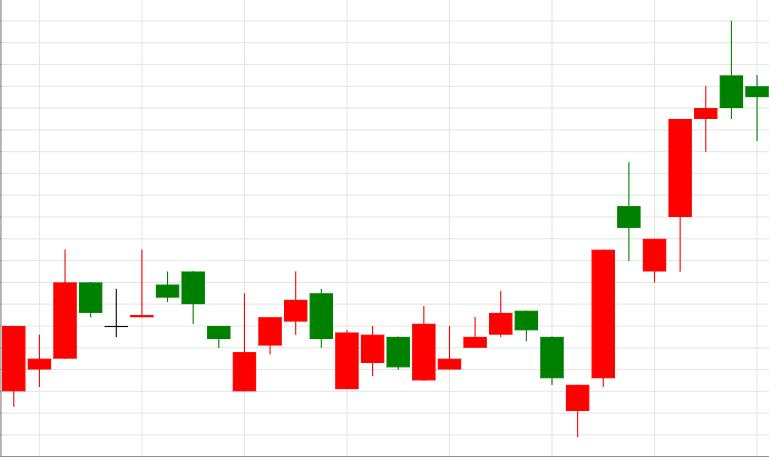inverse_hammer_rise: (156, 272, 256, 392)
shooting_star_fall: (566, 20, 743, 436)
